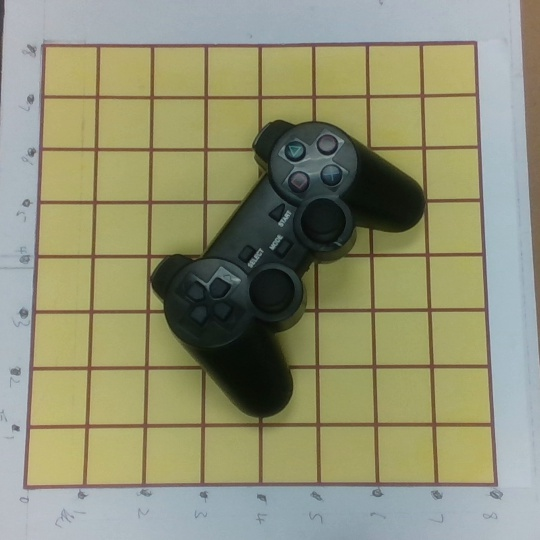remote: (150, 119, 426, 418)
